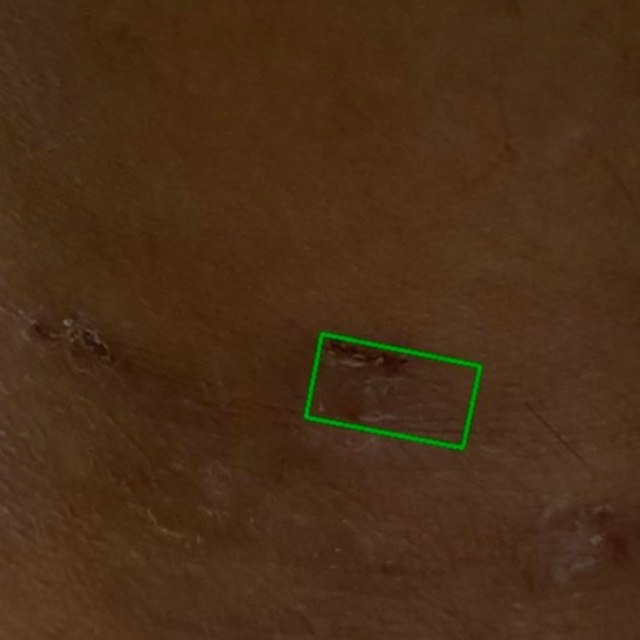Contact Dermatitis: (305, 334, 480, 448)
